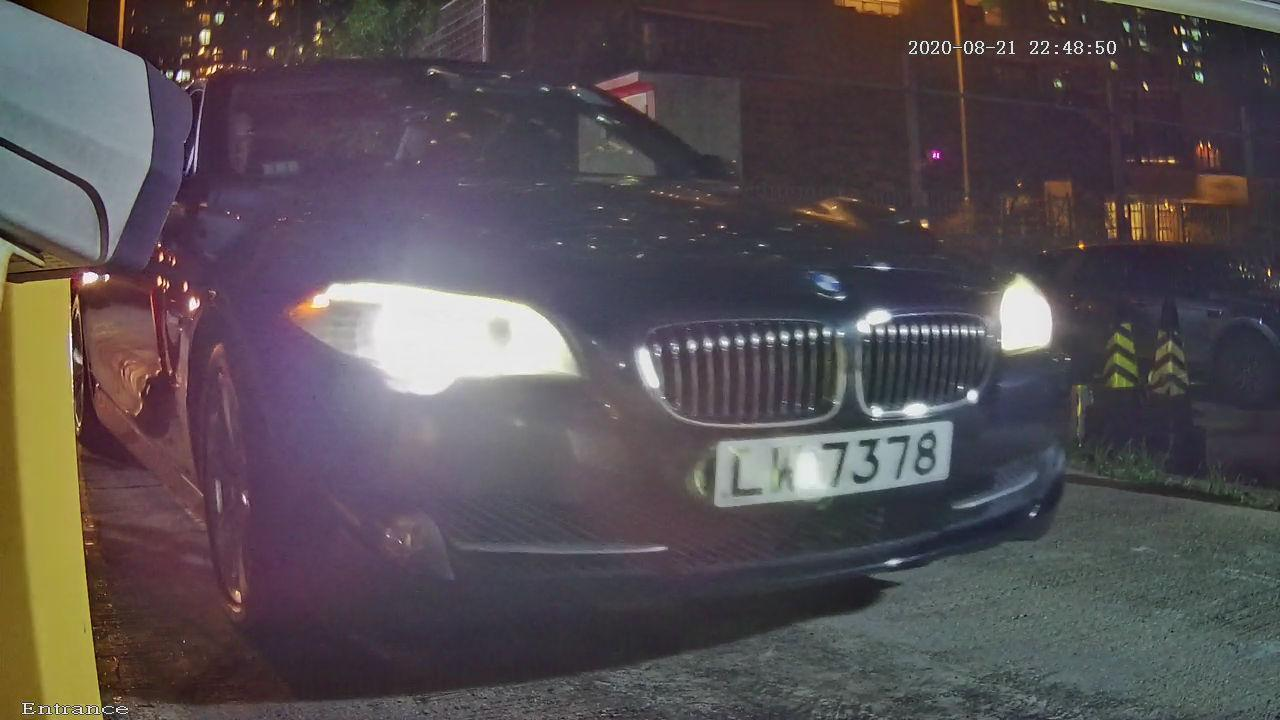Car: (52, 20, 1149, 640)
License Plate: (683, 387, 987, 531)
